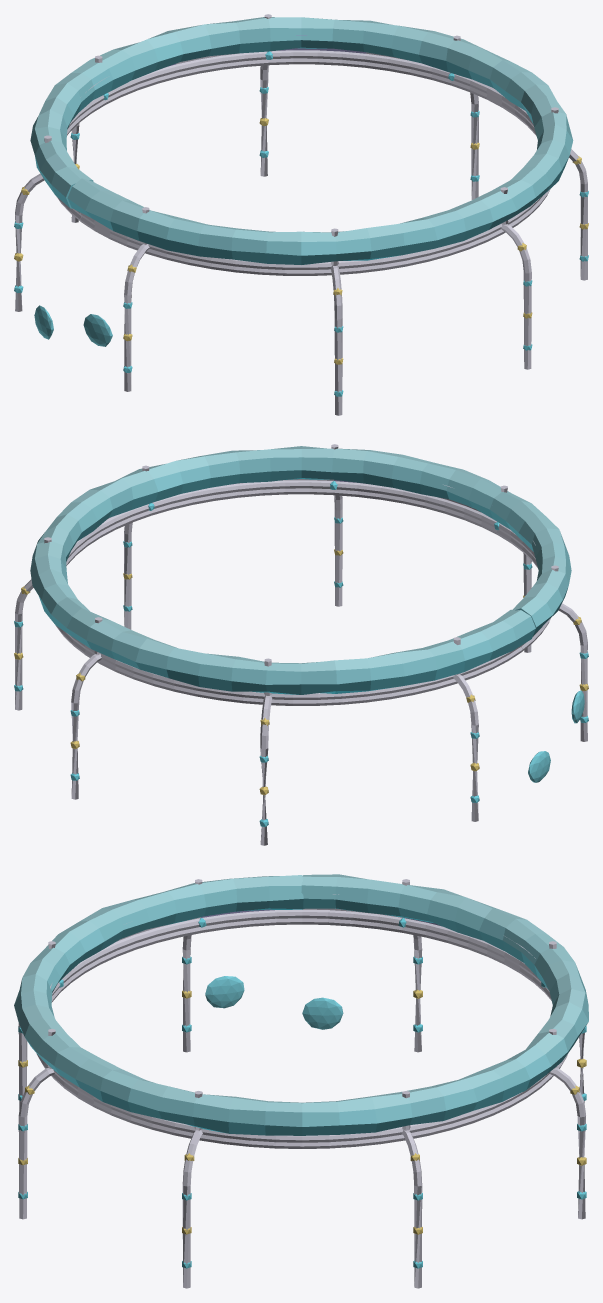
File: goo_jar_trim_3_mid@space.fbx
3 views of the same model, one above another, from view 1: azimuth 30°, elevation 25°; view 2: azimuth 150°, elevation 25°; view 3: azimuth 270°, elevation 25° (orthographic). The views are drawn at different scales.
Visible parts, largest first — view 1: goo_jar_trim_3_mid; view 2: goo_jar_trim_3_mid; view 3: goo_jar_trim_3_mid.
Boxes of the visible parts, x1,y1,x2,y2 form: goo_jar_trim_3_mid: [14, 14, 588, 415]; goo_jar_trim_3_mid: [14, 444, 588, 845]; goo_jar_trim_3_mid: [14, 874, 588, 1288].
Bounding box in the file's own units: 47.64 × 16.05 × 45.98.
